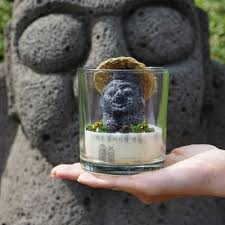Stone Statue: (0, 0, 225, 224), (93, 65, 150, 145)
